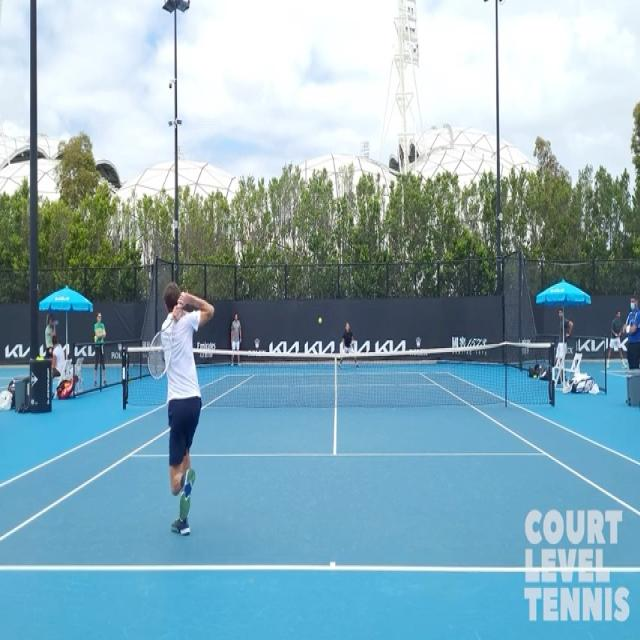backhand-finish: (138, 236, 229, 576)
